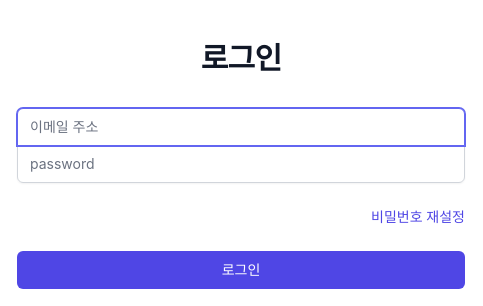
Test: 비밀번호 재설정 버튼을 누를 경우 패스워드 초기화 페이지로 이동한다
Click the link with test id "passwordResetBtn" at (418, 216), box x1=371 y1=208 x2=465 y2=225
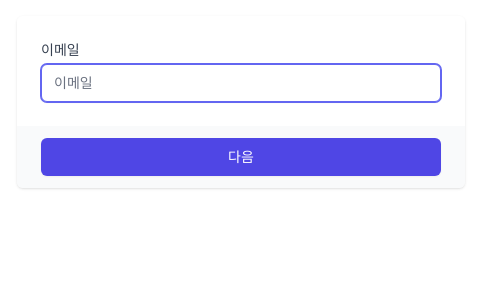
Check: the element with test id "passwordResetWapper" is shown, box x1=17 y1=16 x2=465 y2=188
